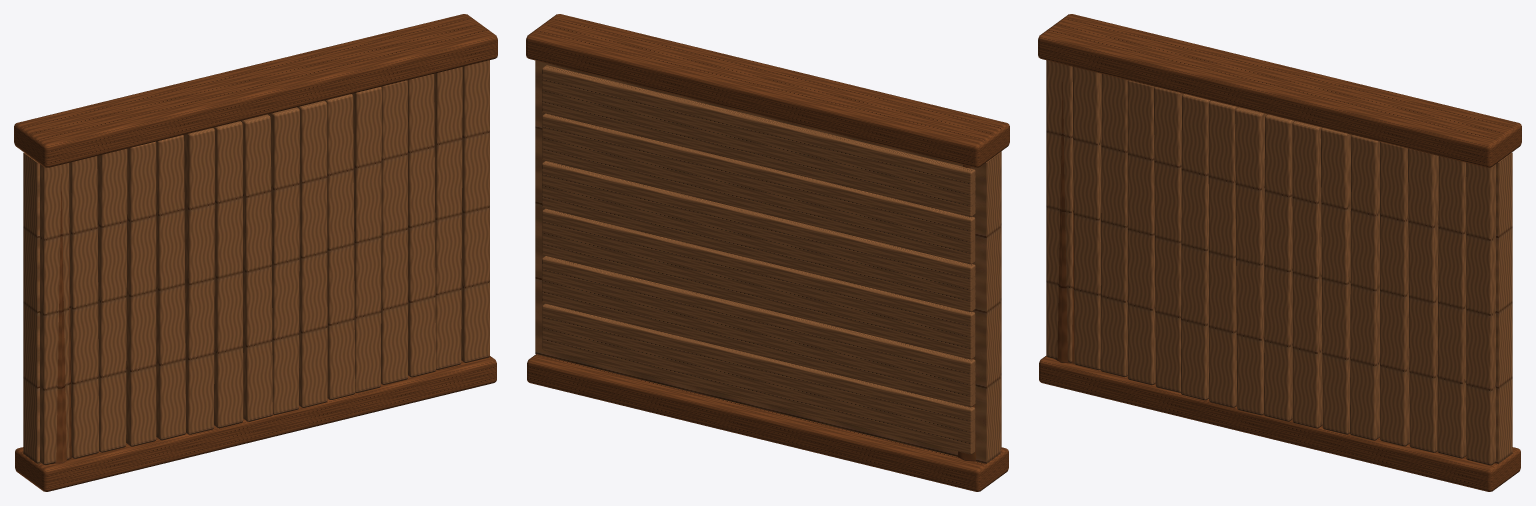
File: viking-age-longhouse-and-longship-longhouse-wall-bay-5af06457__30164.glb
3 views of the same model, side by side, from view 1: azimuth 30°, elevation 25°; view 2: azimuth 150°, elevation 25°; view 3: azimuth 330°, elevation 25° (orthographic).
Parts seen in each view (by area): view 1: longhouse-wall-bay; view 2: longhouse-wall-bay; view 3: longhouse-wall-bay.
Part boxes in pixels (box(x1,y1,x2,y2)): longhouse-wall-bay: box(14, 14, 497, 491); longhouse-wall-bay: box(526, 14, 1009, 491); longhouse-wall-bay: box(1038, 14, 1521, 491).
Bounding box in the file's own units: 3 × 2.2 × 0.3933.
Materials: 2 (2 with a texture image).
